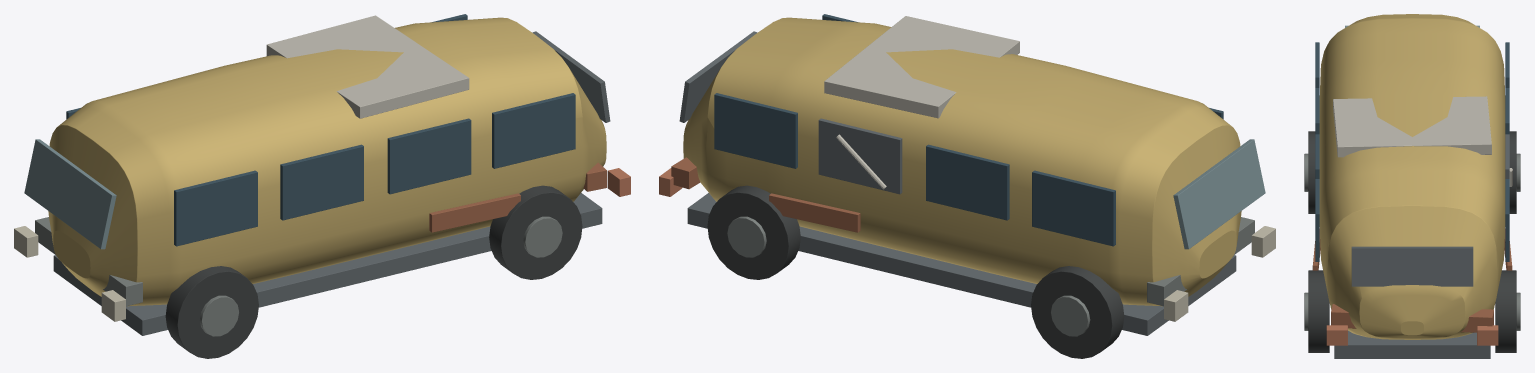
Rendered from Apoc_Vehicle_01_Damaged_Van.fbx.
The picture shows the model from 3 angles, left to right: view 1: azimuth 30°, elevation 25°; view 2: azimuth 150°, elevation 25°; view 3: azimuth 270°, elevation 25°; orthographic projection. The views are drawn at different scales.
Visible parts, largest first — view 1: Apoc_Vehicle_01_Damaged_Van; view 2: Apoc_Vehicle_01_Damaged_Van; view 3: Apoc_Vehicle_01_Damaged_Van.
Part boxes in pixels (box(x1,y1,x2,y2)): Apoc_Vehicle_01_Damaged_Van: box(14, 14, 630, 358); Apoc_Vehicle_01_Damaged_Van: box(659, 14, 1275, 358); Apoc_Vehicle_01_Damaged_Van: box(1304, 14, 1520, 358).
Size of the model in its own units: 5.5 by 2.07 by 2.24.
